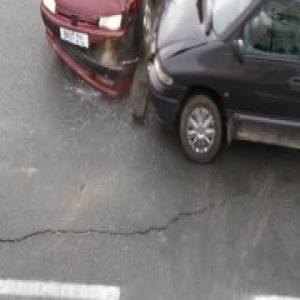negligible: (20, 0, 300, 206)
